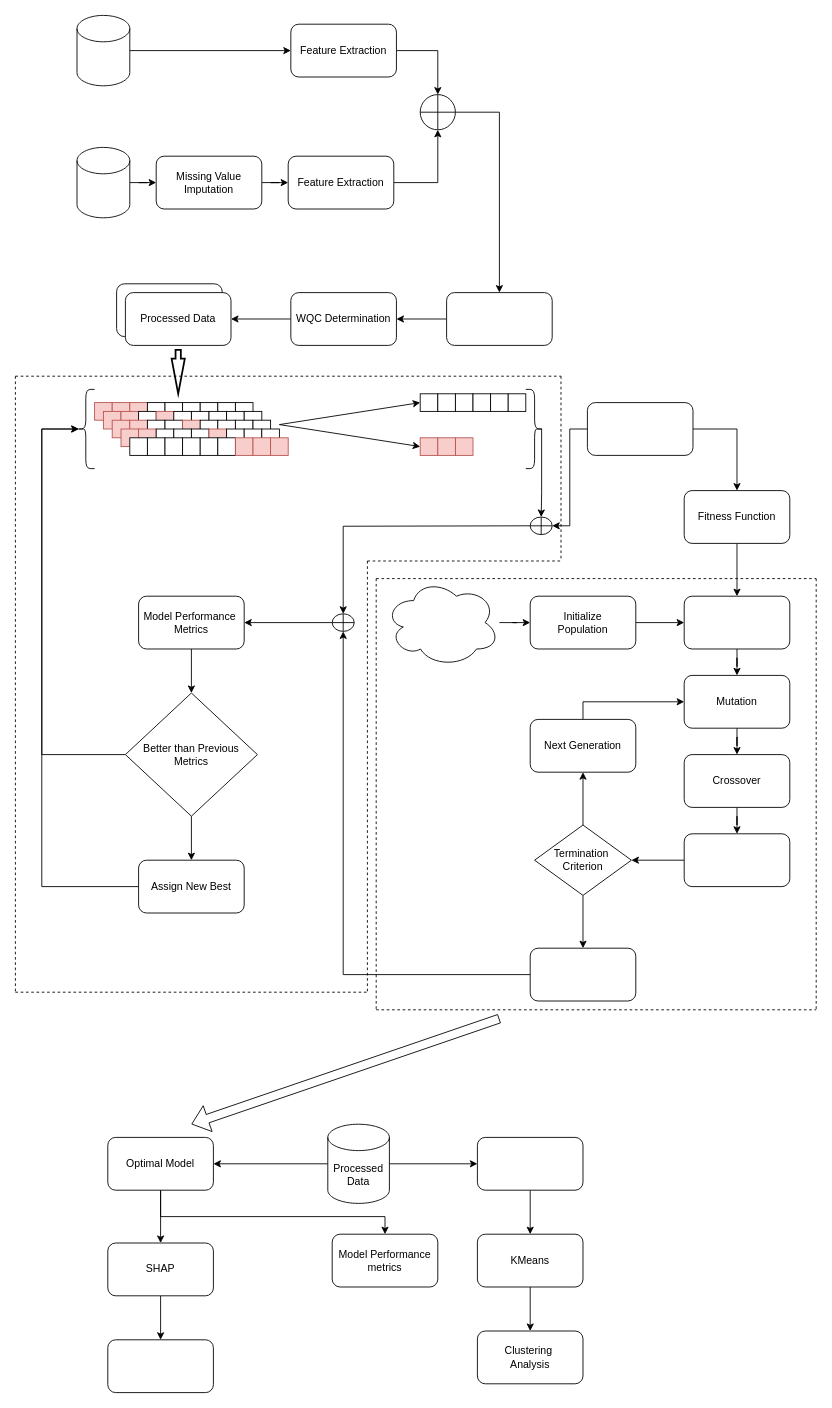
This 832x1408 diagram has some shape labels left out. The centre of each missing label's shape, as x and y in pixels:
Calculate Fitness: the point at 736,622
Features: the point at 103,182
GIS: the point at 103,50
Hyperparameter Space: the point at 441,622
LightGBM: the point at 640,428
Model Explanation: the point at 160,1366
Optimal Hyperparameter: the point at 582,974
PCA: the point at 530,1163
Selection: the point at 736,860
WQI Calculation: the point at 499,318
